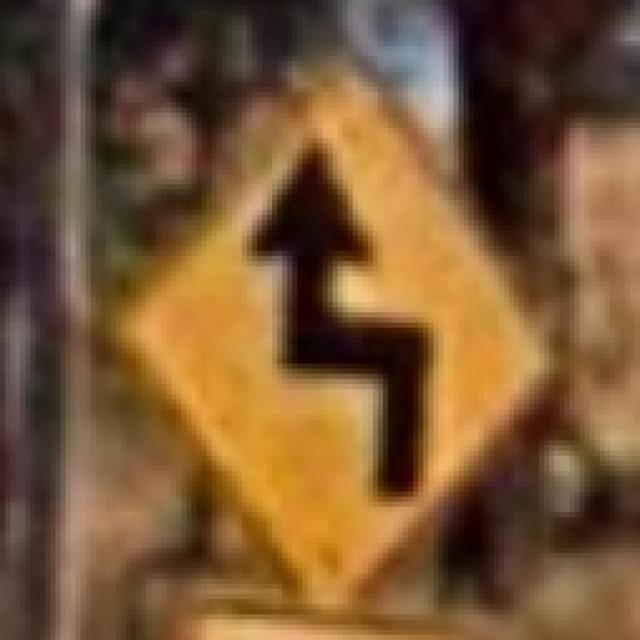Tikungan Ganda Pertama Ke Kiri: (60, 61, 595, 614)
